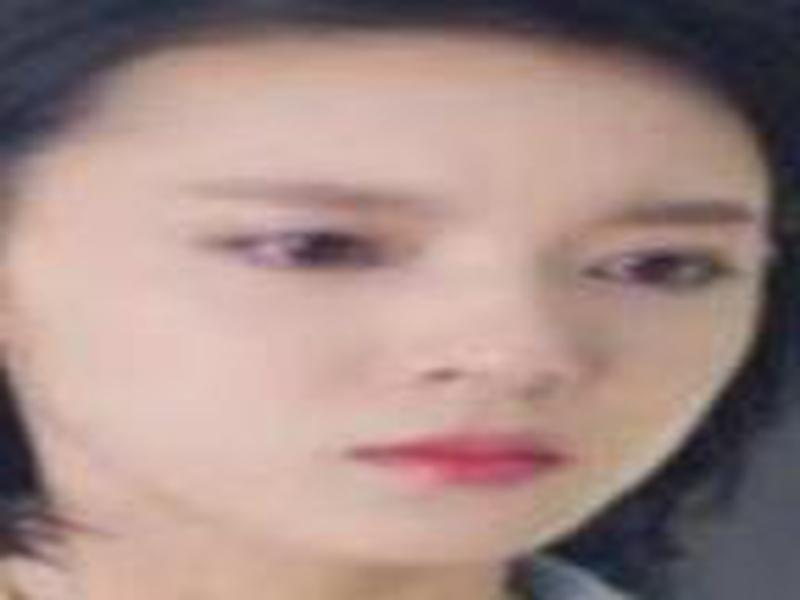without_mask: (61, 27, 766, 578)
